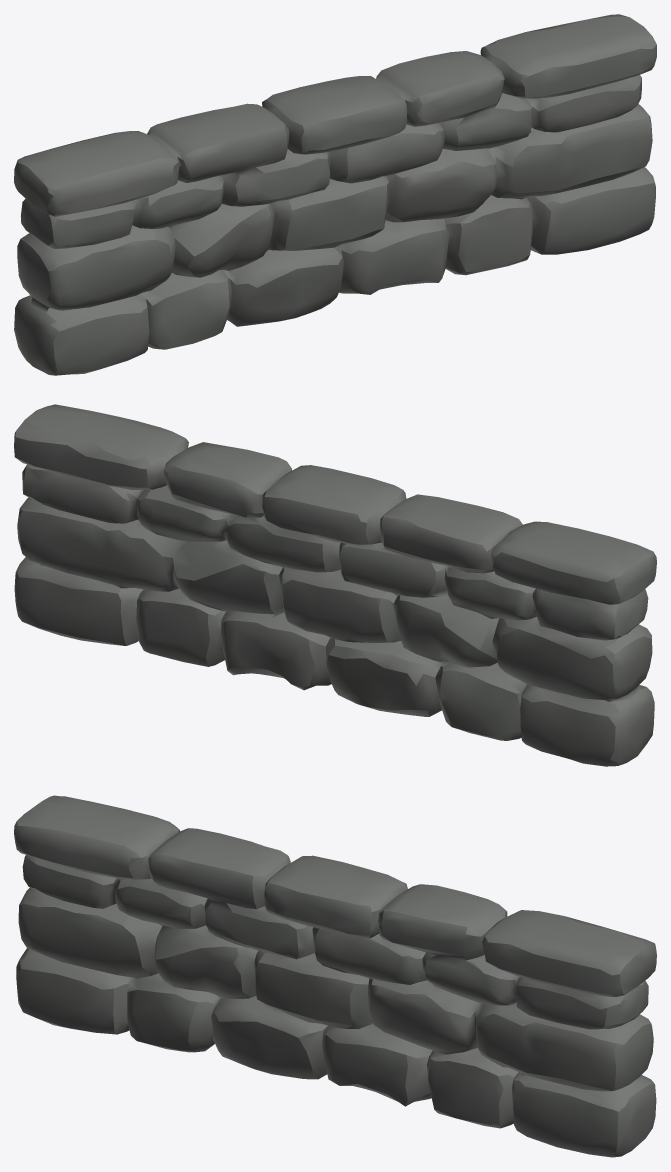
Rendered from ENV_09_WALL.glb.
The picture shows the model from 3 angles, top to bottom: view 1: azimuth 30°, elevation 25°; view 2: azimuth 150°, elevation 25°; view 3: azimuth 330°, elevation 25°; orthographic projection.
Parts seen in each view (by area): view 1: world; view 2: world; view 3: world.
Boxes of the visible parts, <box> form: world: <box>14,14,656,375</box>; world: <box>14,404,656,766</box>; world: <box>14,795,656,1157</box>.
Bounding box in the file's own units: 1 × 0.3198 × 0.1295.
Materials: 1 (1 with a texture image).
